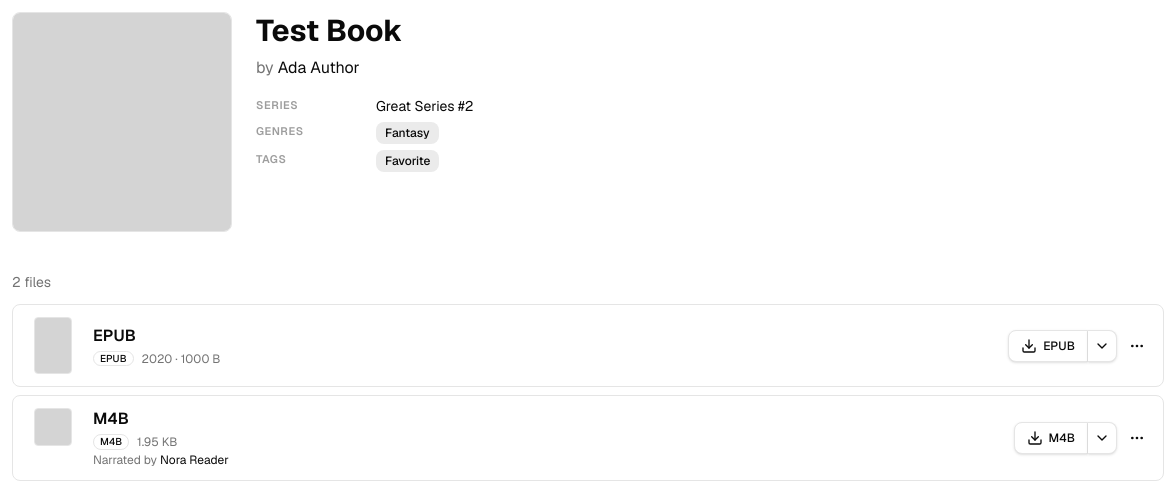
Test case: BookDetailBody in Share Link context › hides every action control even with full permissions
Note: A file's menu keeps only its details, which change nothing.
What coordinates should you click on to do the following:
click the button named "File actions" in the row of "2020 · 1000 B"
I would click on:
 (1137, 346)
Its box is [1123, 332, 1151, 360].
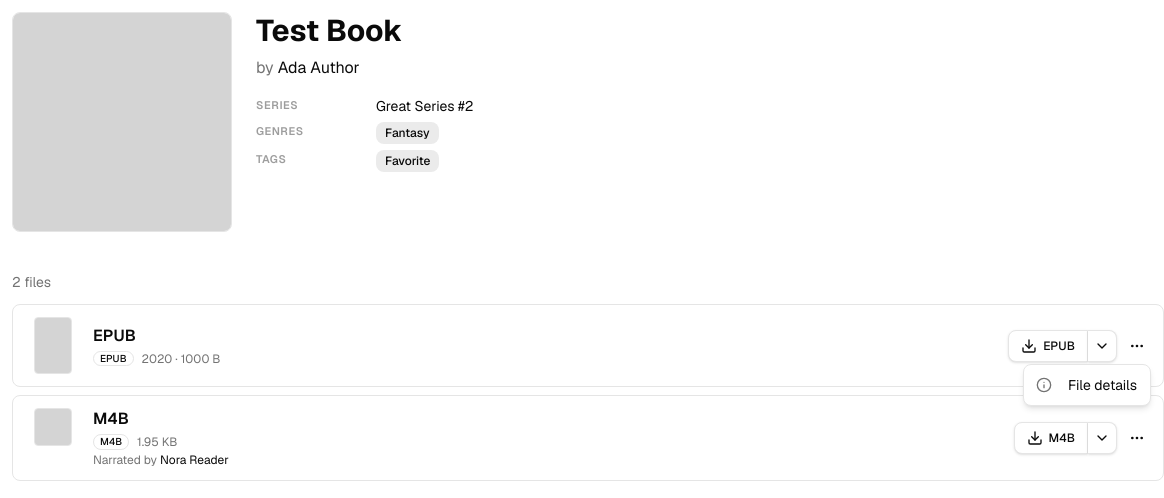
Check: the menu items read "File details", in this order, box [1036, 376, 1137, 394]
